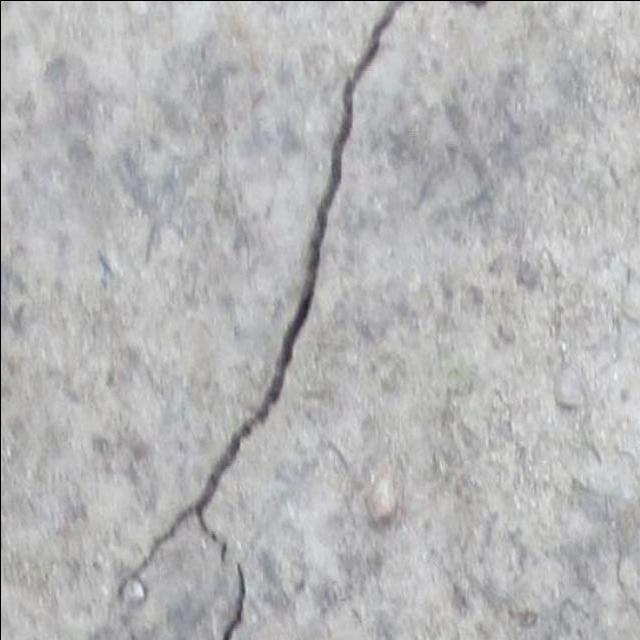crack: (109, 12, 443, 636)
